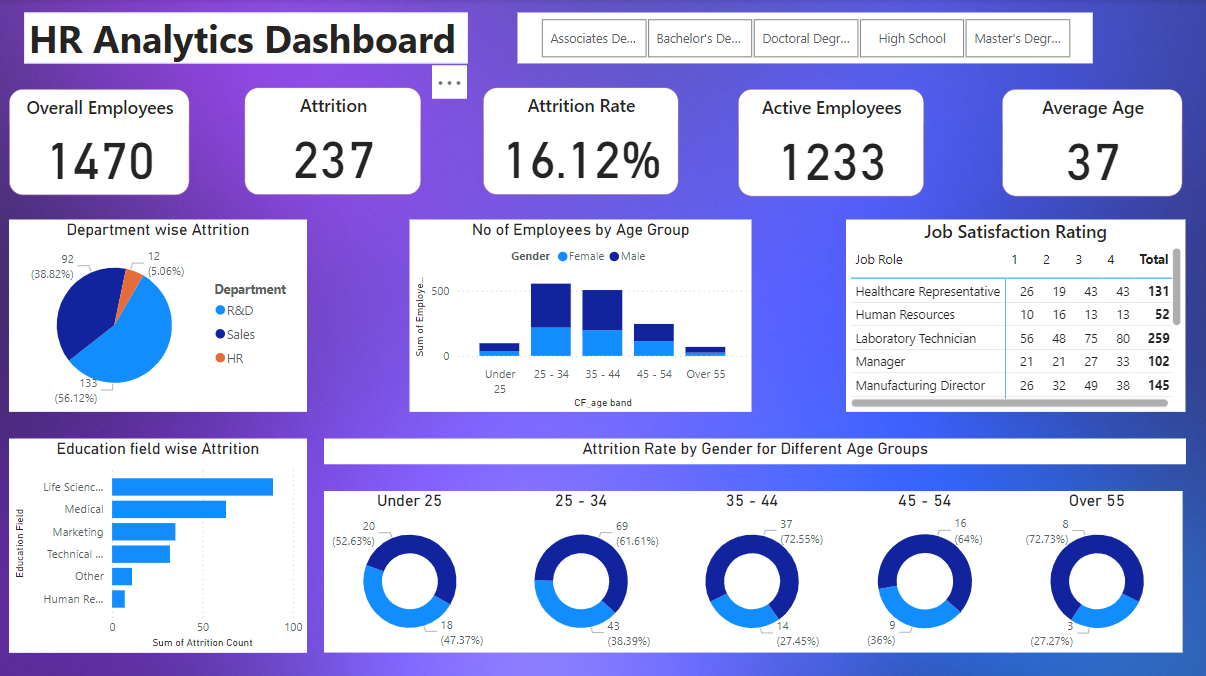

Layout of this report page (visuals, bound fields, positions):
{"tool":"powerbi","page":{"name":"Page 1","canvas":[1280,720],"ordinal":0},"visuals":[{"type":"card","title":"Overall Employees","fields":{"Values":["Sum(HR Data xlsx - HR data.Employee Count)"]},"box":[10,95.7,191.4,112.9],"z":0},{"type":"card","title":"Attrition","fields":{"Values":["Sum(HR Data xlsx - HR data.Attrition Count)"]},"box":[258.6,94.3,187.1,114.3],"z":1000},{"type":"card","title":"Attrition Rate","fields":{"Values":["HR Data xlsx - HR data.Attrition Rate"]},"box":[511.4,94.3,207.1,114.3],"z":2000},{"type":"card","title":"Active Employees","fields":{"Values":["HR Data xlsx - HR data.Active Employees"]},"box":[782.9,95.7,197.1,114.3],"z":3000},{"type":"card","title":"Average Age","fields":{"Values":["Avg(HR Data xlsx - HR data.Age)"]},"box":[1062.9,95.7,191.4,114.3],"z":4000},{"type":"pieChart","title":"Department wise Attrition","fields":{"Category":["HR Data xlsx - HR data.Department"],"Y":["Sum(HR Data xlsx - HR data.Attrition Count)"]},"box":[10,234.3,315.7,204.3],"z":5000},{"type":"columnChart","title":"No of Employees by Age Group","fields":{"Category":["HR Data xlsx - HR data.CF_age band"],"Y":["Sum(HR Data xlsx - HR data.Employee Count)"],"Series":["HR Data xlsx - HR data.Gender"]},"box":[434.3,234.3,362.9,204.3],"z":6000},{"type":"pivotTable","title":"Job Satisfaction Rating","fields":{"Rows":["HR Data xlsx - HR data.Job Role"],"Columns":["HR Data xlsx - HR data.Job Satisfaction"],"Values":["Sum(HR Data xlsx - HR data.Employee Count)"]},"box":[897.1,234.3,360,204.3],"z":7000},{"type":"barChart","title":"Education field wise Attrition","fields":{"Category":["HR Data xlsx - HR data.Education Field"],"Y":["Sum(HR Data xlsx - HR data.Attrition Count)"]},"box":[10,465.7,315.7,227.1],"z":8000},{"type":"donutChart","title":"Under 25","fields":{"Category":["HR Data xlsx - HR data.Gender"],"Y":["Sum(HR Data xlsx - HR data.Attrition Count)"],"Series":["HR Data xlsx - HR data.CF_age band"]},"box":[342.9,521.4,181.4,171.4],"z":9000},{"type":"textbox","title":"Attrition Rate by Gender for Different Age Groups","box":[342.9,465.7,914.3,27.1],"z":10000},{"type":"donutChart","title":"25 - 34","fields":{"Category":["HR Data xlsx - HR data.Gender"],"Y":["Sum(HR Data xlsx - HR data.Attrition Count)"],"Series":["HR Data xlsx - HR data.CF_age band"]},"box":[524.3,521.4,182,171.4],"z":11000},{"type":"donutChart","title":"35 - 44","fields":{"Category":["HR Data xlsx - HR data.Gender"],"Y":["Sum(HR Data xlsx - HR data.Attrition Count)"],"Series":["HR Data xlsx - HR data.CF_age band"]},"box":[705.7,521.4,182,171.4],"z":12000},{"type":"donutChart","title":"45 - 54","fields":{"Category":["HR Data xlsx - HR data.Gender"],"Y":["Sum(HR Data xlsx - HR data.Attrition Count)"],"Series":["HR Data xlsx - HR data.CF_age band"]},"box":[887.1,521.4,185.7,171.4],"z":13000},{"type":"donutChart","title":"Over 55","fields":{"Category":["HR Data xlsx - HR data.Gender"],"Y":["Sum(HR Data xlsx - HR data.Attrition Count)"],"Series":["HR Data xlsx - HR data.CF_age band"]},"box":[1072.9,521.4,182,171.4],"z":14000},{"type":"textbox","title":"HR Analytics Dashboard","box":[25.7,14.3,470,54.3],"z":15000},{"type":"slicer","fields":{"Values":["HR Data xlsx - HR data.Education"]},"box":[548.6,14.3,610,54.3],"z":16000}]}

Visuals, with their boxes in screenshot pixels (x1, y1, x2, y2), scaled from the page's 1280x720 canvas onto the 1206x676 screenshot:
"Overall Employees" card: <region>9, 90, 190, 196</region>
"Attrition" card: <region>244, 89, 420, 196</region>
"Attrition Rate" card: <region>482, 89, 677, 196</region>
"Active Employees" card: <region>738, 90, 923, 197</region>
"Average Age" card: <region>1001, 90, 1182, 197</region>
"Department wise Attrition" pieChart: <region>9, 220, 307, 412</region>
"No of Employees by Age Group" columnChart: <region>409, 220, 751, 412</region>
"Job Satisfaction Rating" pivotTable: <region>845, 220, 1184, 412</region>
"Education field wise Attrition" barChart: <region>9, 437, 307, 650</region>
"Under 25" donutChart: <region>323, 490, 494, 650</region>
"Attrition Rate by Gender for Different Age Groups" textbox: <region>323, 437, 1185, 463</region>
"25 - 34" donutChart: <region>494, 490, 665, 650</region>
"35 - 44" donutChart: <region>665, 490, 836, 650</region>
"45 - 54" donutChart: <region>836, 490, 1011, 650</region>
"Over 55" donutChart: <region>1011, 490, 1182, 650</region>
"HR Analytics Dashboard" textbox: <region>24, 13, 467, 64</region>
slicer - HR Data xlsx - HR data.Education: <region>517, 13, 1092, 64</region>
